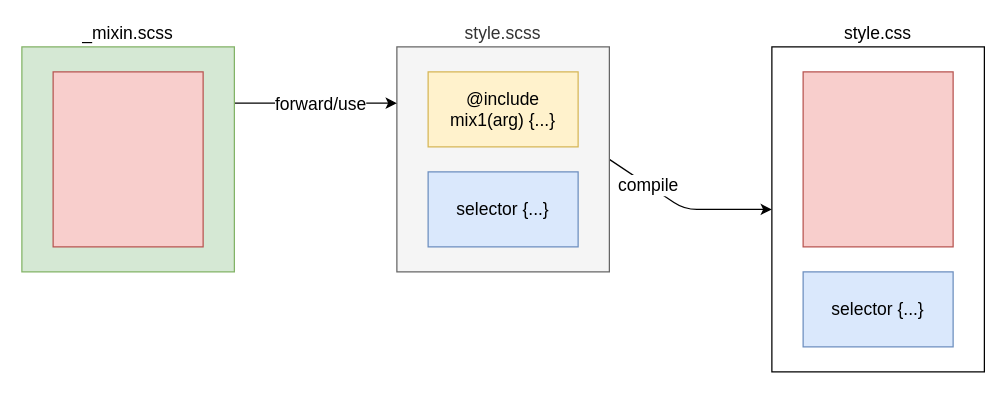
Image size: 1006x394. Some labels were removed from this diagram. Each missing label, with the centre of its shape:
"@mixin mix1(arg) {...}" belongs at (127,159).
"code snippet of mix1(arg) {...}" belongs at (877,159).
